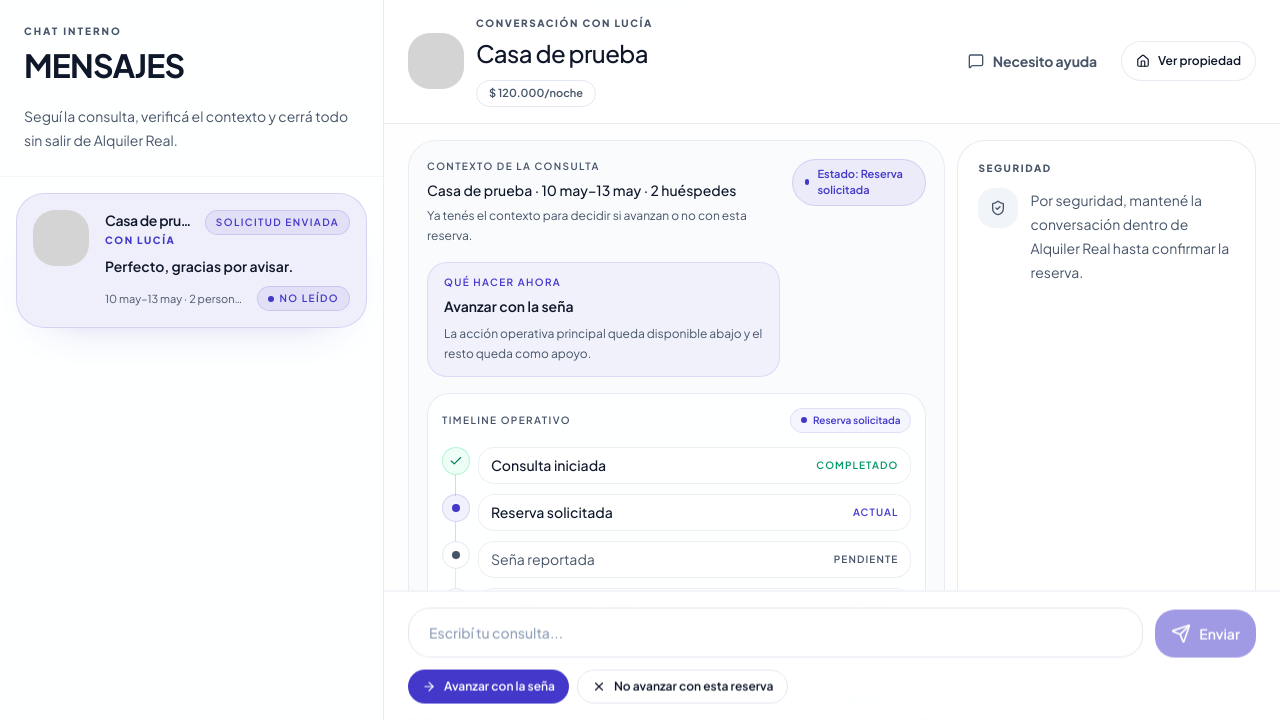
SecureChat › shows one host advance action and moves the chat to deposit choice on send
Step 1. Click the button "Avanzar con la seña" → (488, 687), box left=408, top=670, right=569, bottom=704
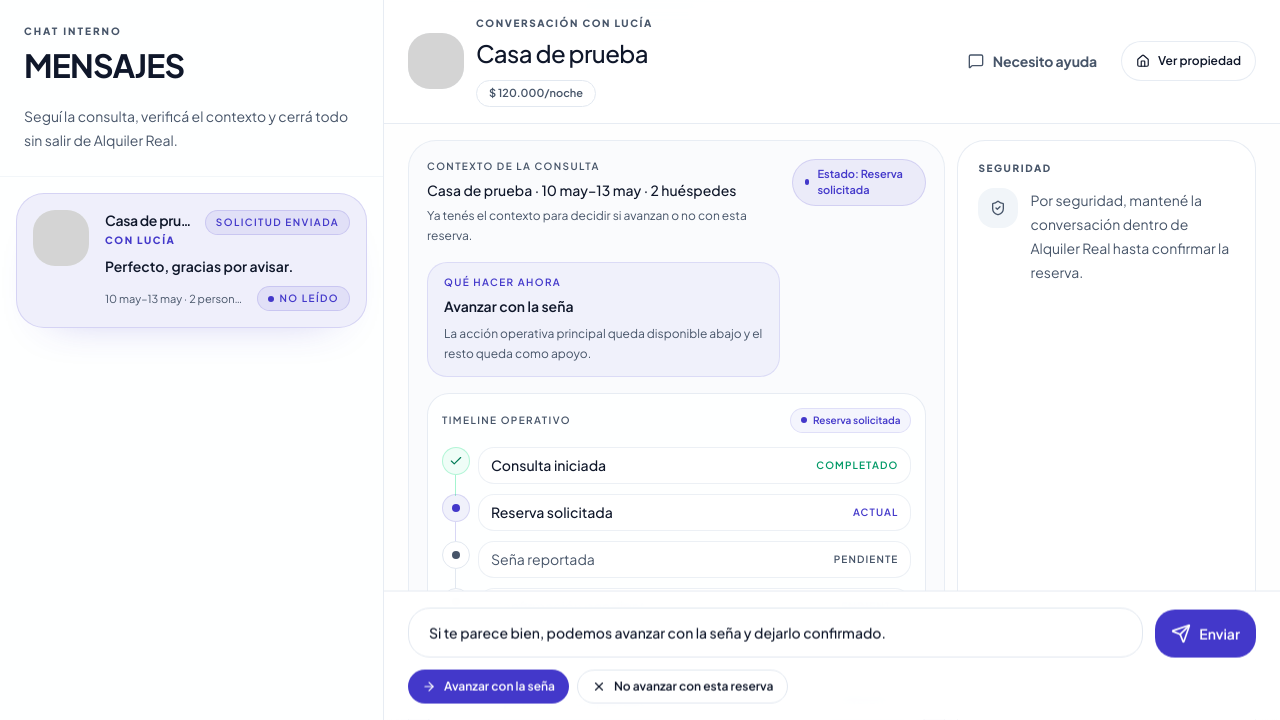
Now the field holds "Si te parece bien, podemos avanzar con la seña y dejarlo confirmado."
Step 2. Press Enter in the field, box left=408, top=608, right=1143, bottom=658
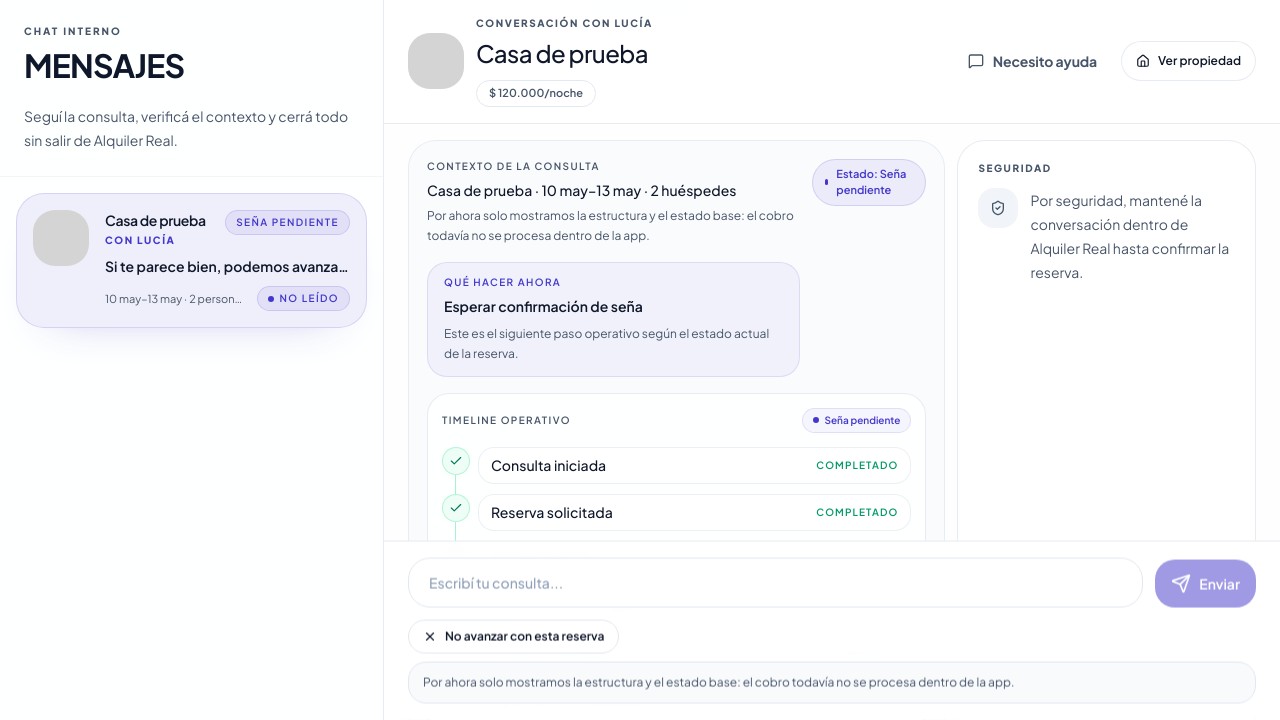
Now the text "Estado: Seña pendiente" is shown, box left=836, top=166, right=913, bottom=199
